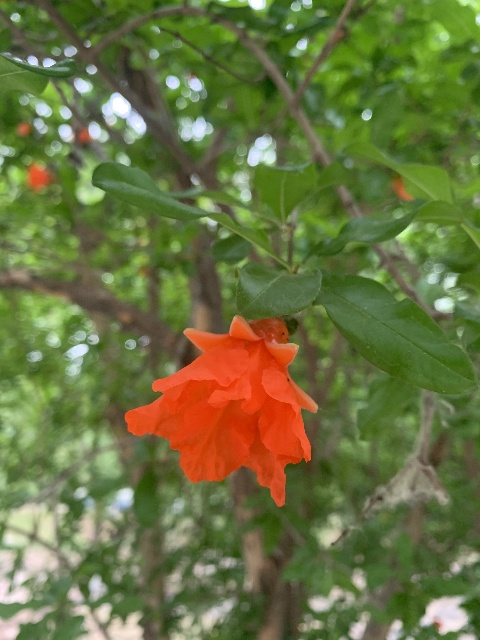flower: (124, 314, 318, 506), (26, 162, 55, 191)
